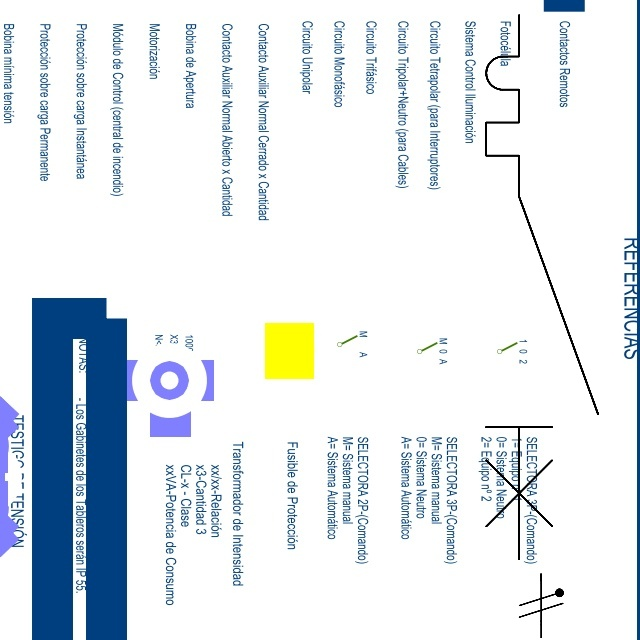interruptor_termomagnetico: (472, 1, 612, 573)
